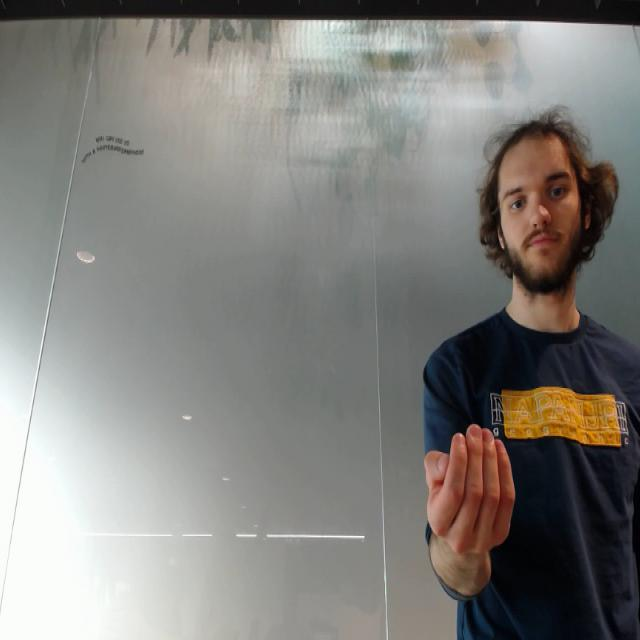forward: (422, 419, 520, 560)
